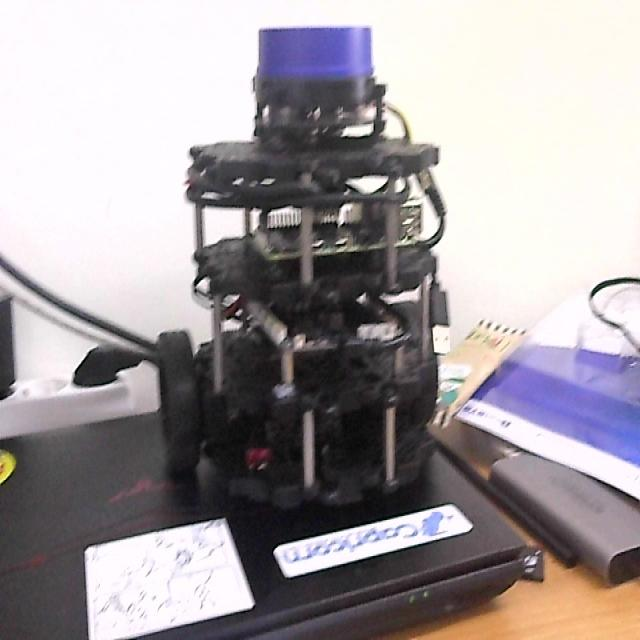turtle: (154, 21, 454, 518)
